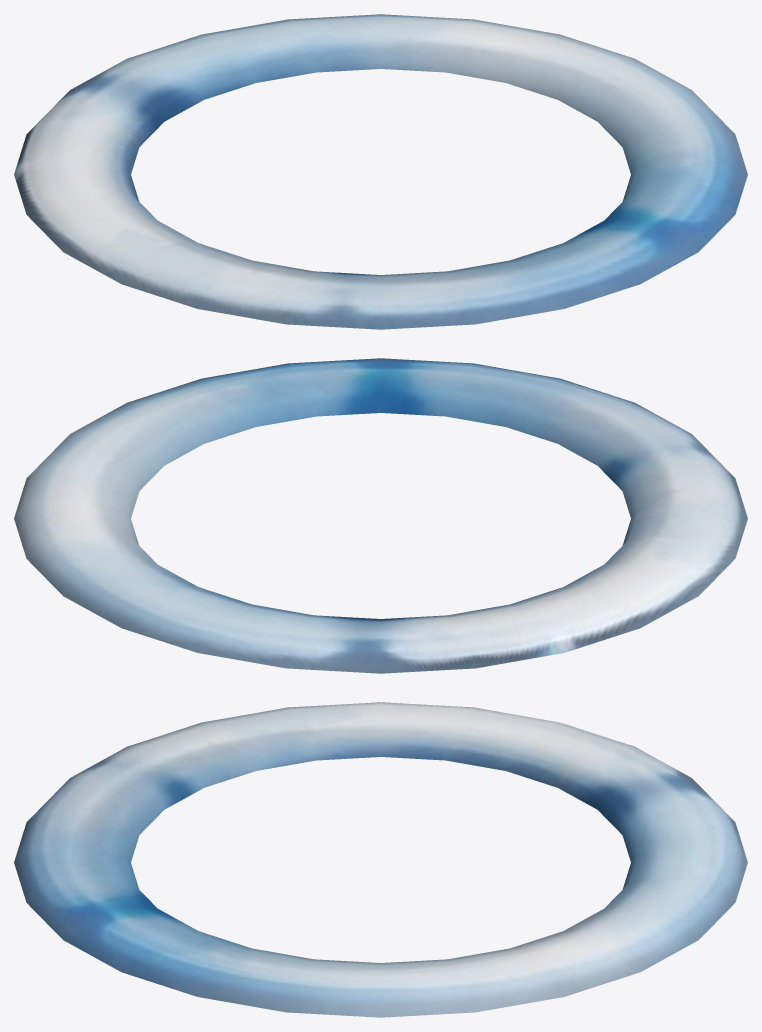
Rendered from blue.FBX.
The picture shows the model from 3 angles, top to bottom: view 1: azimuth 30°, elevation 25°; view 2: azimuth 150°, elevation 25°; view 3: azimuth 270°, elevation 25°; orthographic projection.
Parts seen in each view (by area): view 1: Torus001; view 2: Torus001; view 3: Torus001.
Boxes of the visible parts, bbox=[...] form: Torus001: bbox=[14, 14, 747, 329]; Torus001: bbox=[14, 358, 747, 673]; Torus001: bbox=[14, 702, 747, 1017].
Bounding box in the file's own units: 137 × 3.54 × 137.
Materials: 1 (1 with a texture image).
